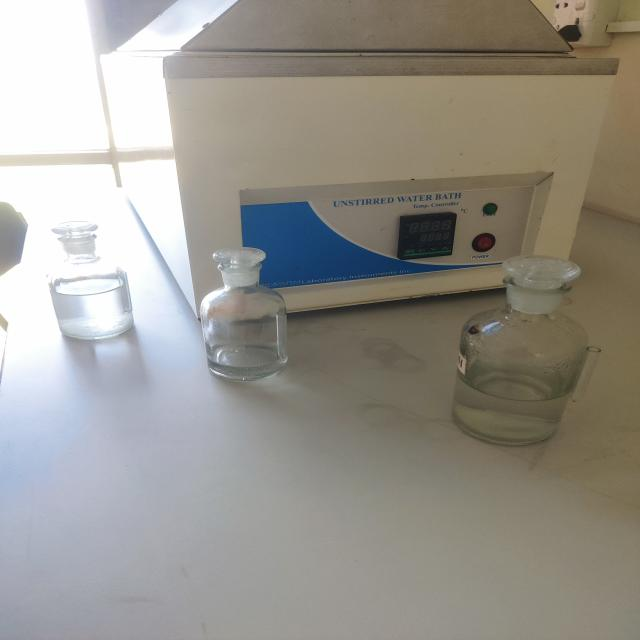Reagent_Bottle: (421, 224, 628, 472), (188, 229, 330, 406), (20, 196, 166, 366)
